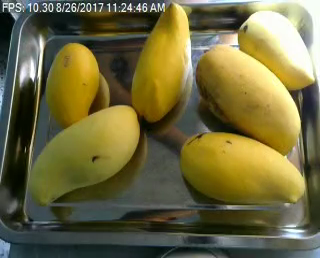Mango: (196, 46, 299, 153), (29, 106, 140, 204), (180, 131, 305, 204), (131, 2, 190, 120), (238, 10, 313, 88), (45, 43, 99, 125)
